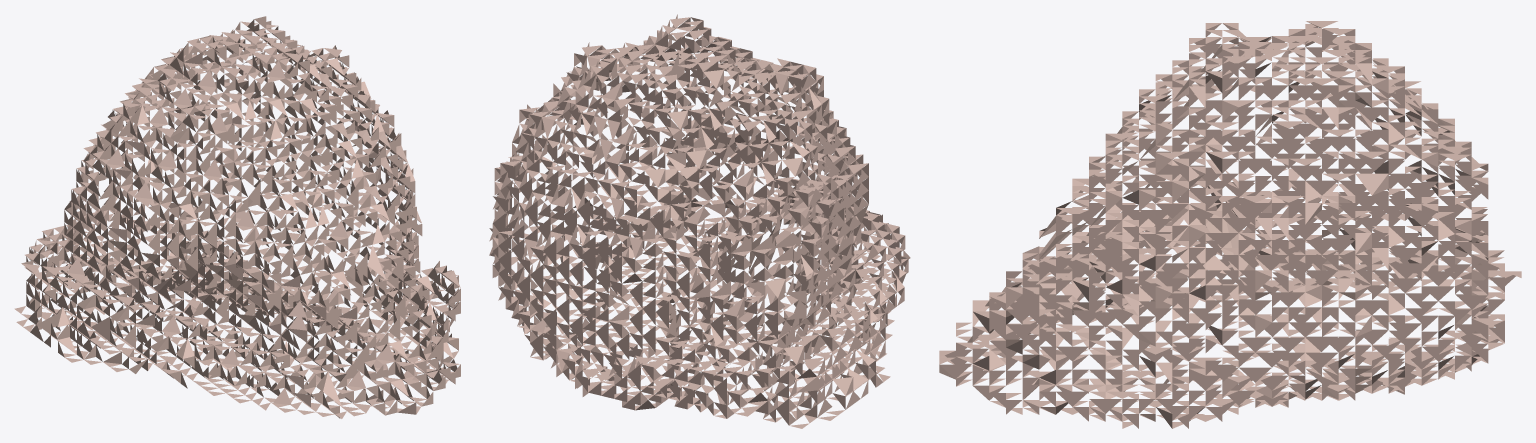
The model's file is shell.glb.
3 renders of one model, left to right at view 1: azimuth 30°, elevation 25°; view 2: azimuth 150°, elevation 25°; view 3: azimuth 270°, elevation 25°, orthographic. The views are drawn at different scales.
Parts seen in each view (by area): view 1: world; view 2: world; view 3: world.
Boxes of the visible parts, x1,y1,x2,y2 form: world: [14, 16, 460, 418]; world: [489, 14, 910, 428]; world: [939, 21, 1521, 428].
Bounding box in the file's own units: 0.108 × 0.088 × 0.14.
